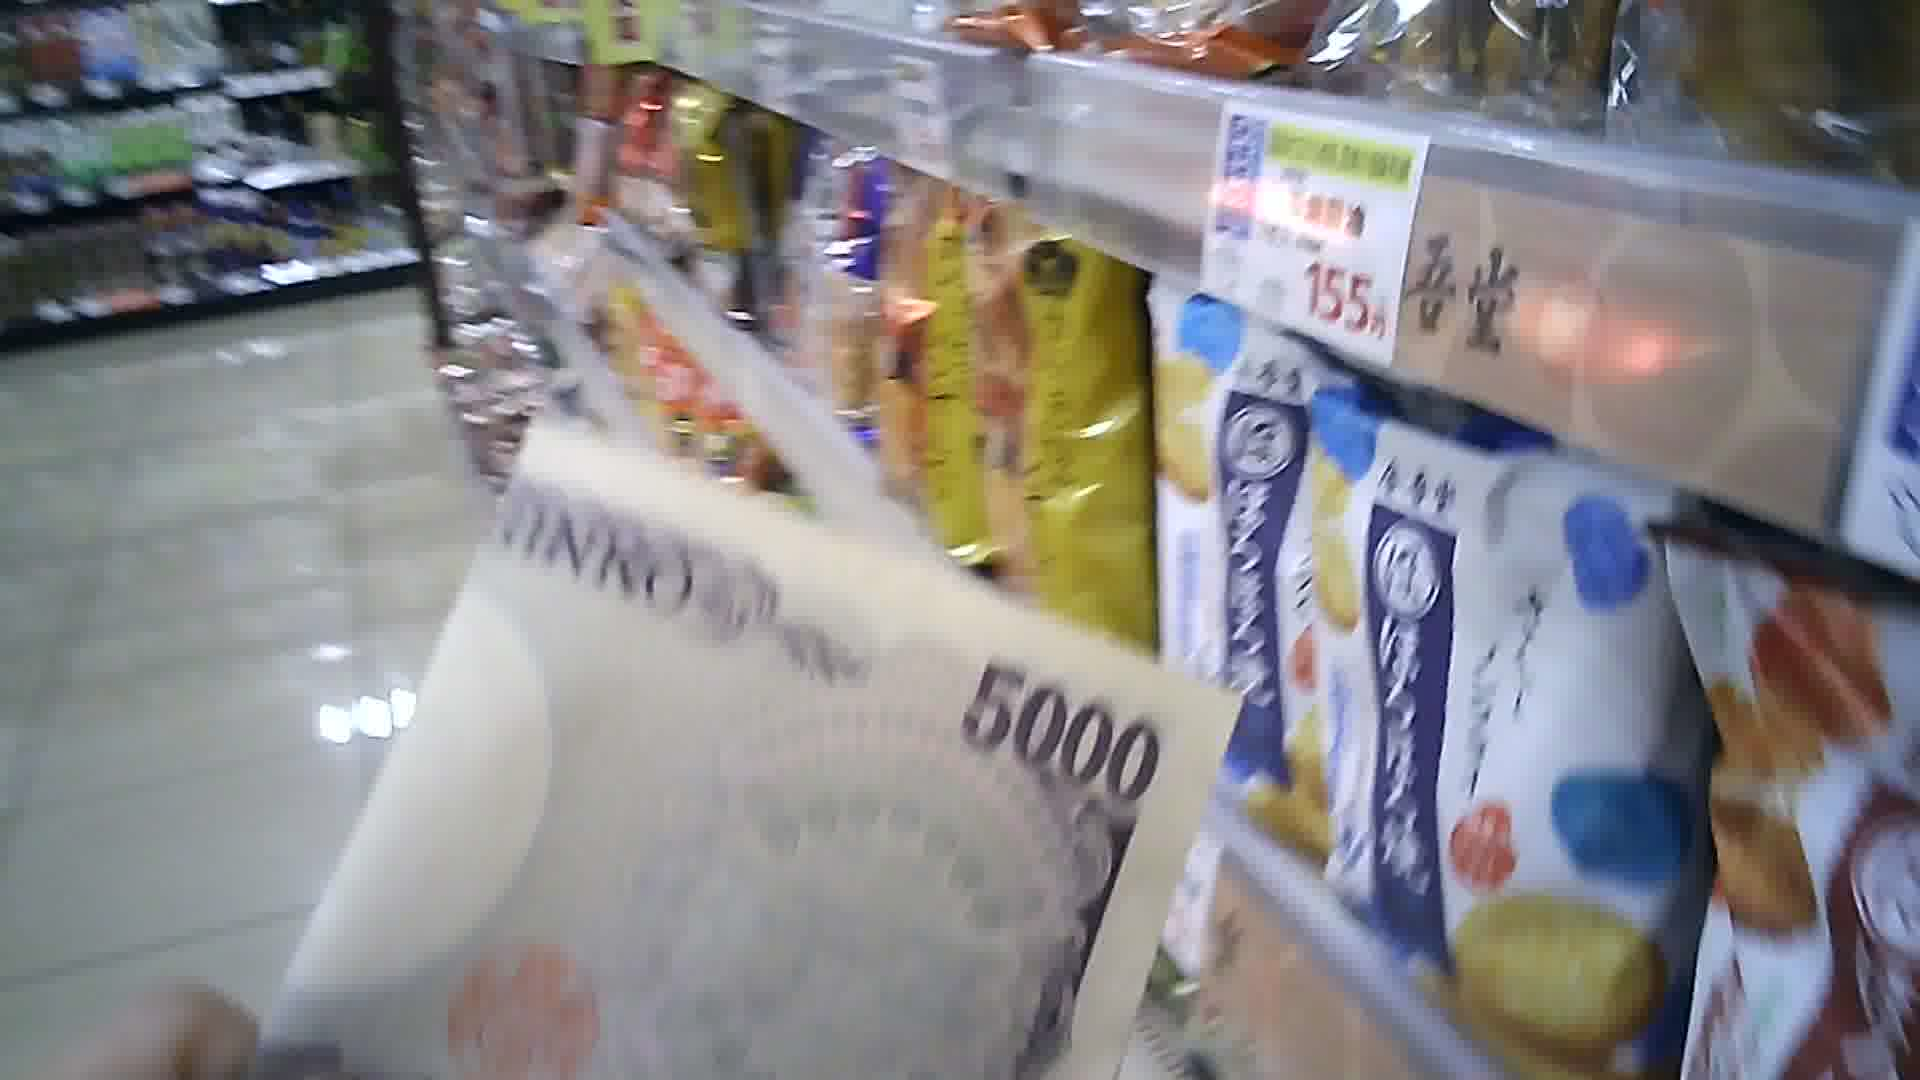5,000 Yen: (243, 402, 1222, 1077)
